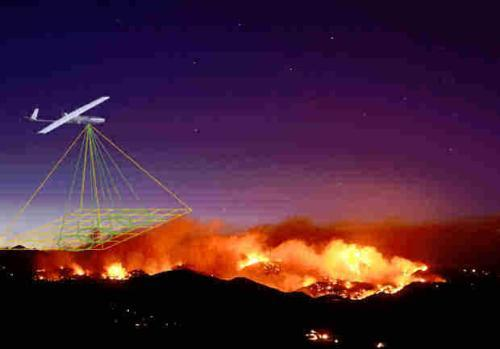fire: (239, 237, 415, 290), (106, 263, 129, 283)
smoke: (142, 230, 235, 272)
